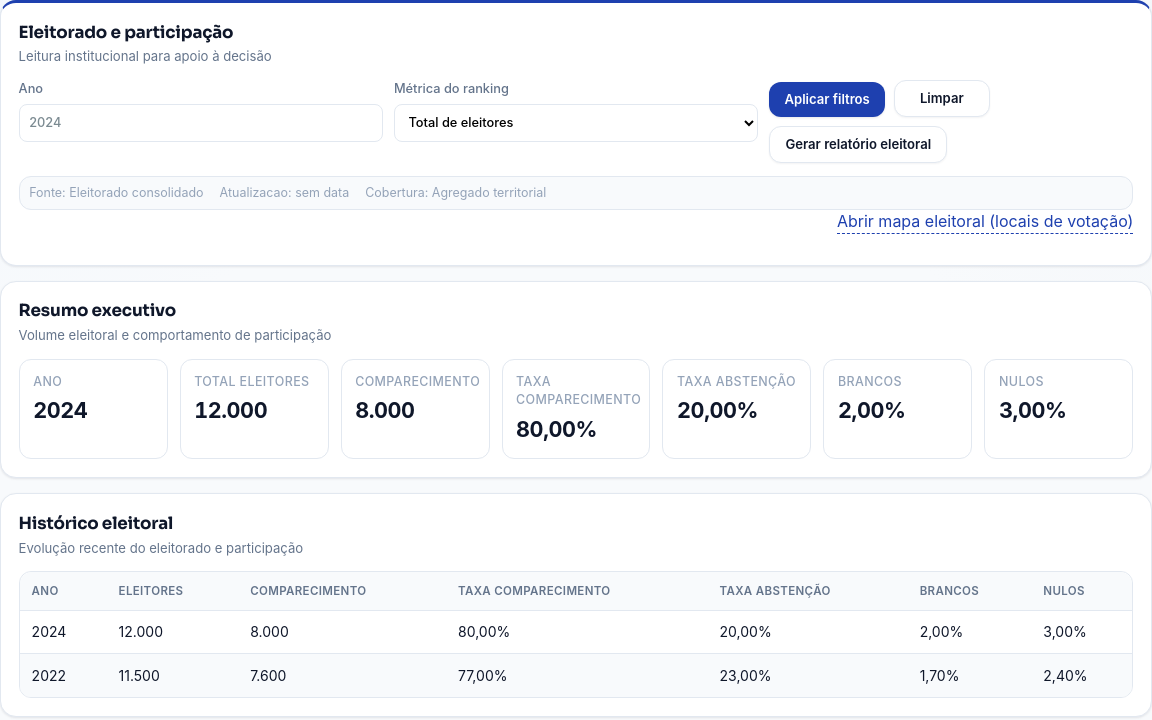
Test case: ElectorateExecutivePage › uses historical metrics in resumo executivo when summary lacks rates for the selected year
Type "2022" into the field labelled "Ano" at (201, 123), box [19,104,383,142]
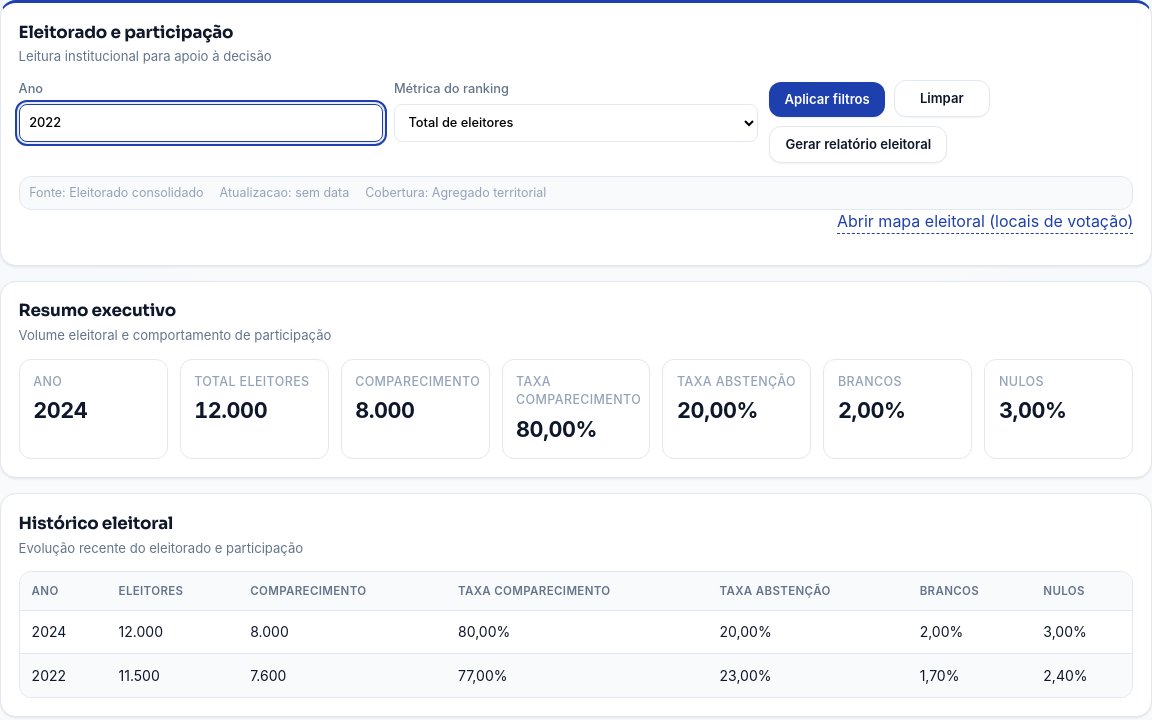
Click the button "Aplicar filtros" at (827, 100), box [769,82,885,117]
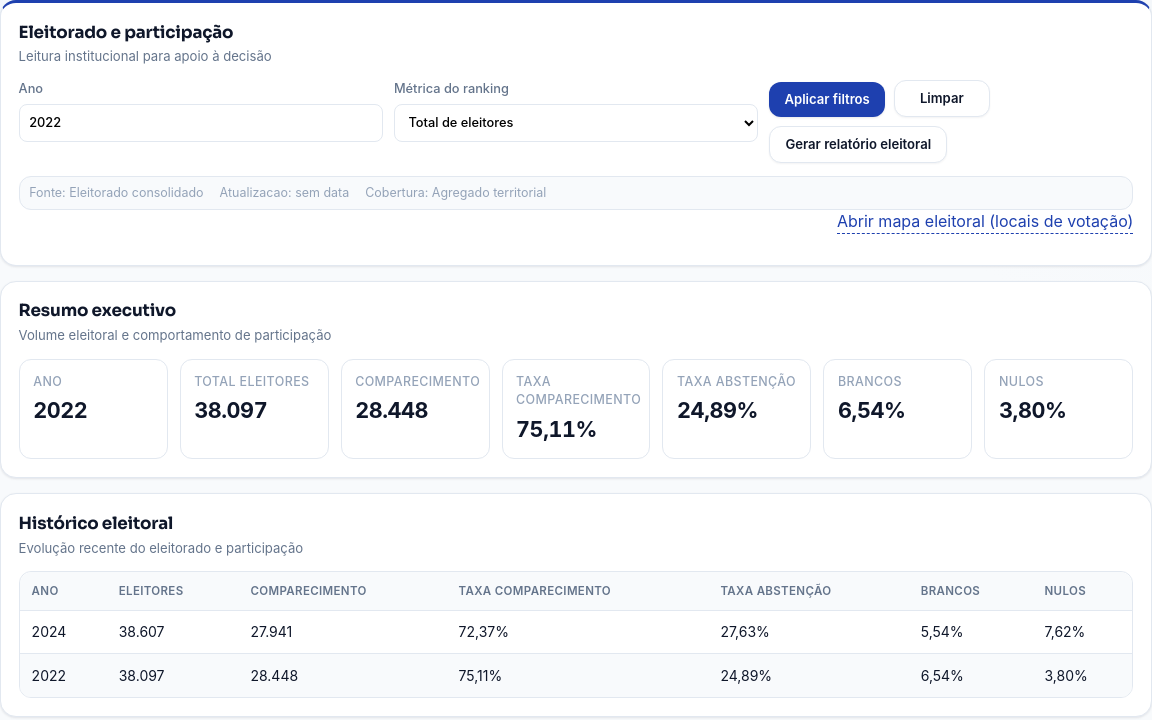
Now the text "28.448" is shown, box [355,398,428,424]
Now the text "75,11%" is shown, box [516,416,597,442]
Now the text "24,89%" is shown, box [677,398,758,424]
